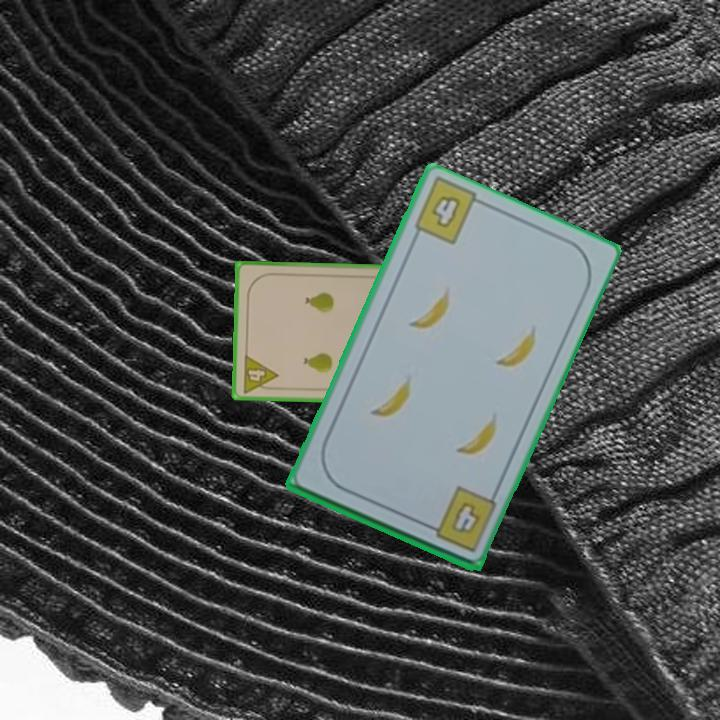4b: (420, 483, 500, 555), (428, 191, 463, 231)
4p: (239, 351, 280, 396)
